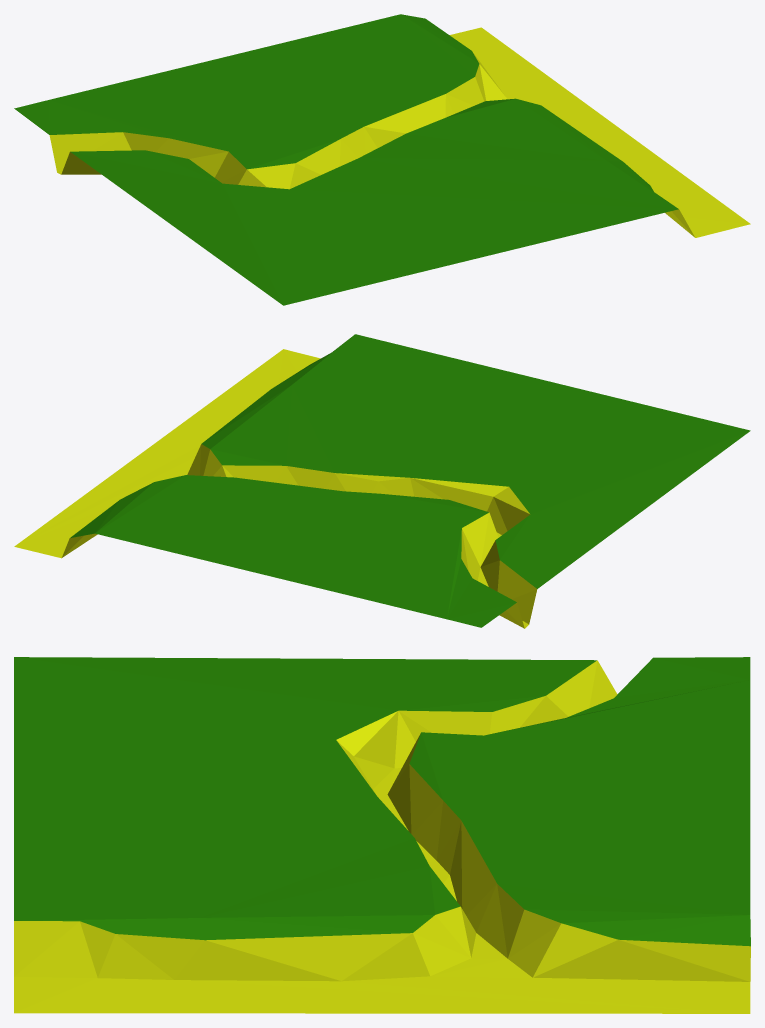
The picture shows the model from 3 angles, top to bottom: view 1: azimuth 30°, elevation 25°; view 2: azimuth 150°, elevation 25°; view 3: azimuth 270°, elevation 25°; orthographic projection. The views are drawn at different scales.
Parts seen in each view (by area): view 1: TerrainVeryHigh.001; view 2: TerrainVeryHigh.001; view 3: TerrainVeryHigh.001.
Part boxes in pixels (<box>): TerrainVeryHigh.001: <box>14,14,750,305</box>; TerrainVeryHigh.001: <box>14,334,750,628</box>; TerrainVeryHigh.001: <box>14,657,750,1013</box>.
Size of the model in its own units: 1253 by 1252 by 87.14.
